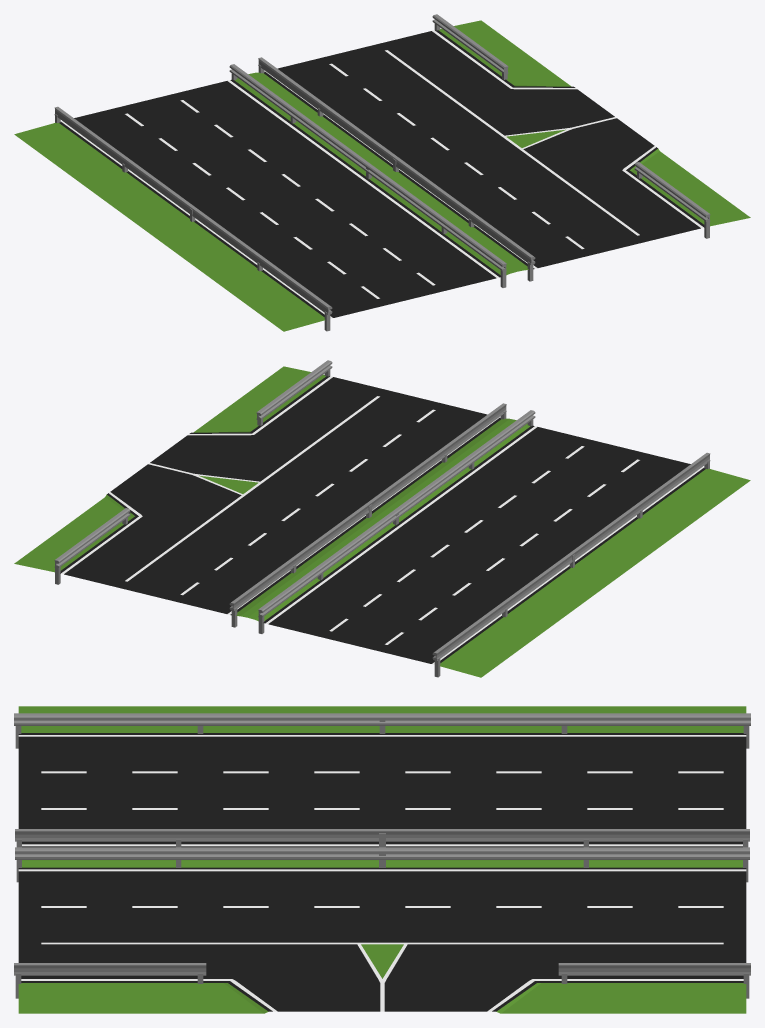
Rendered from street_SlipRoad.fbx.
3 renders of one model, top to bottom at view 1: azimuth 30°, elevation 25°; view 2: azimuth 150°, elevation 25°; view 3: azimuth 270°, elevation 25°, orthographic. The views are drawn at different scales.
Visible parts, largest first — view 1: street_SlipRoad; view 2: street_SlipRoad; view 3: street_SlipRoad.
Boxes of the visible parts, bbox=[...] form: street_SlipRoad: bbox=[14, 14, 750, 331]; street_SlipRoad: bbox=[14, 360, 750, 677]; street_SlipRoad: bbox=[14, 706, 750, 1013].
Size of the model in its own units: 3200 by 160 by 3240.
